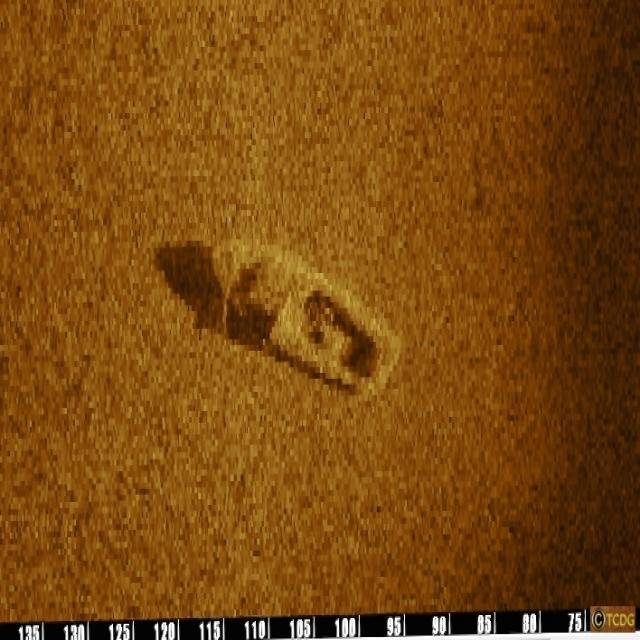ship: (207, 235, 400, 401)
